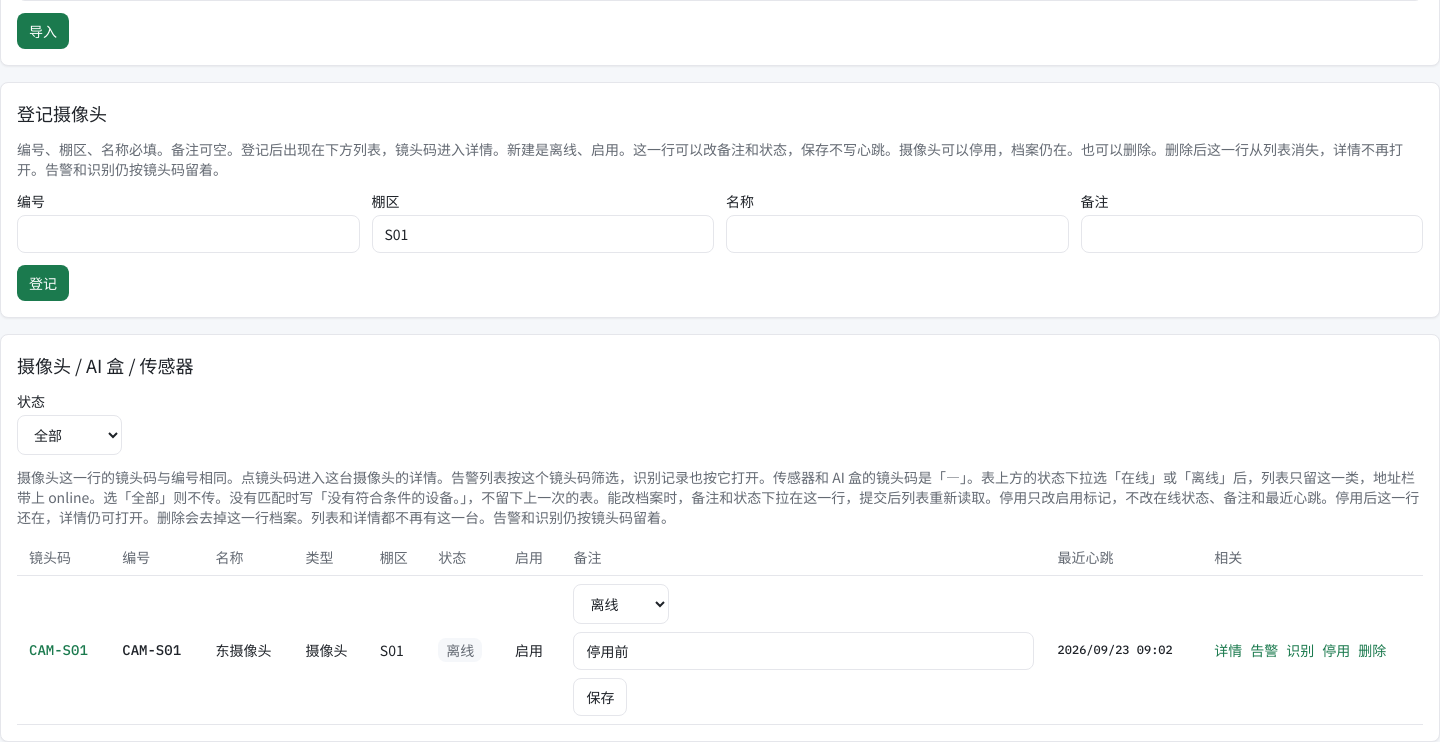
Scenario: DevicesView batch import › deactivates a camera and shows 停用 on the reloaded row
(page scrolled)
Expected: the cell "启用" is shown, [503,576,561,724]
Expected: the cell "离线" is shown, [426,576,503,724]
Click the button with test id "device-enabled-CAM-S01".
click(1336, 650)  # box [1322,640,1350,660]
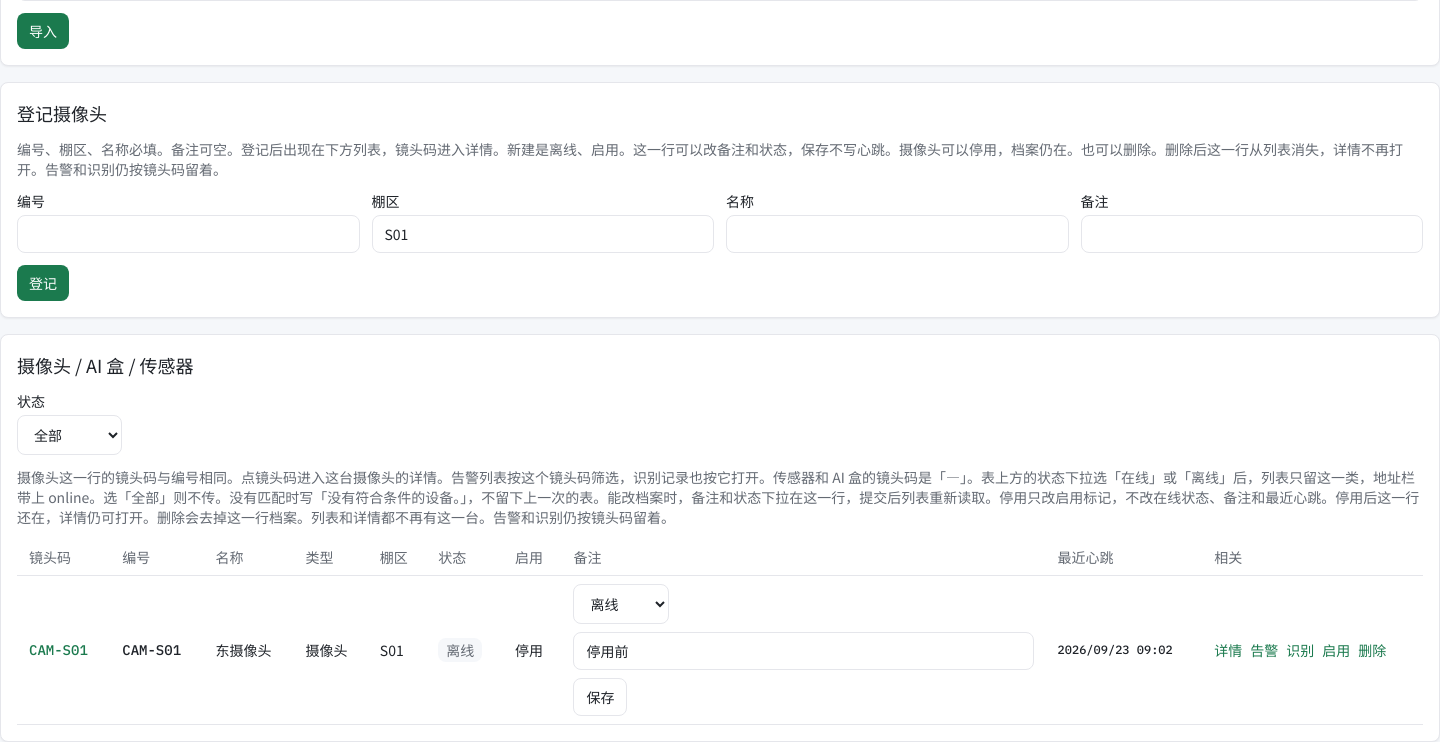
Expected: the cell "离线" is shown, [426,576,503,724]
Expected: the cell "停用" is shown, [503,576,561,724]
Expected: the button with test id "device-enabled-CAM-S01" reads "启用", [1322,640,1350,660]
